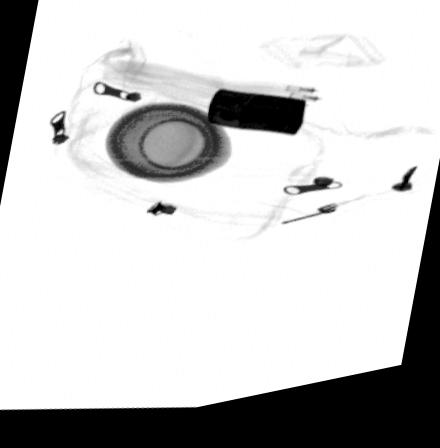Lighter: (206, 98, 307, 149)
